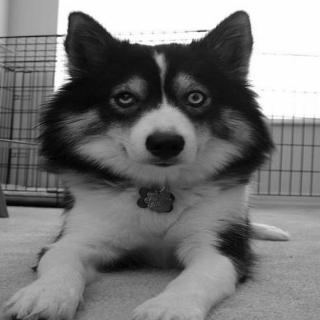dog: (41, 10, 274, 187)
nose: (144, 130, 188, 161)
